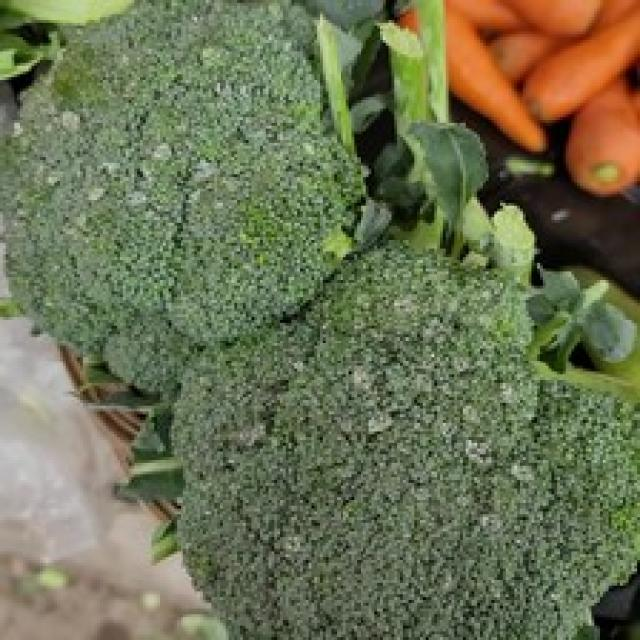Broccoli: (174, 242, 640, 640), (174, 242, 640, 640), (14, 1, 364, 393), (14, 2, 364, 393)
